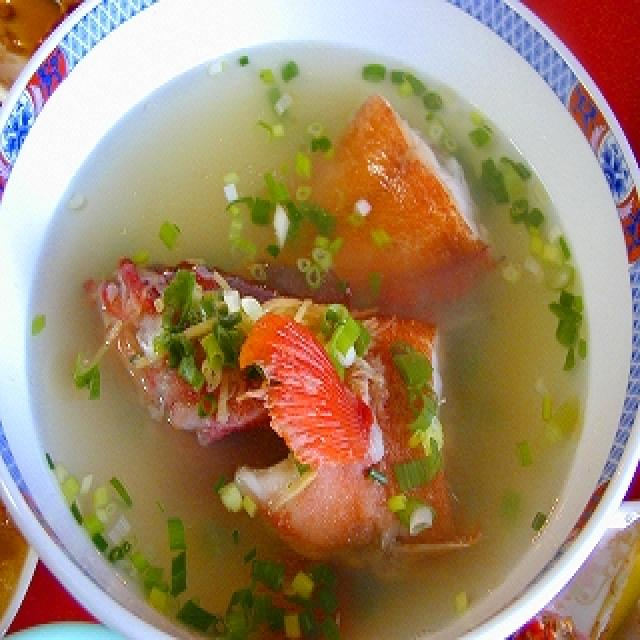汤锅炖物: (4, 8, 636, 640)
